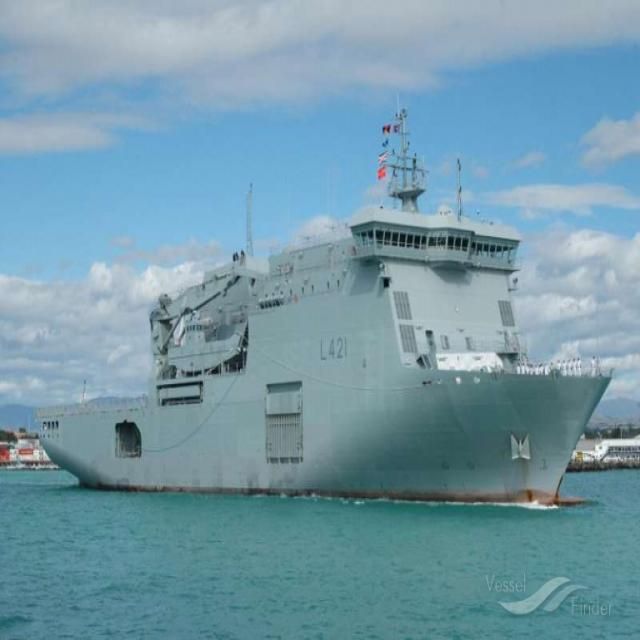OCR: (312, 334, 357, 364)
